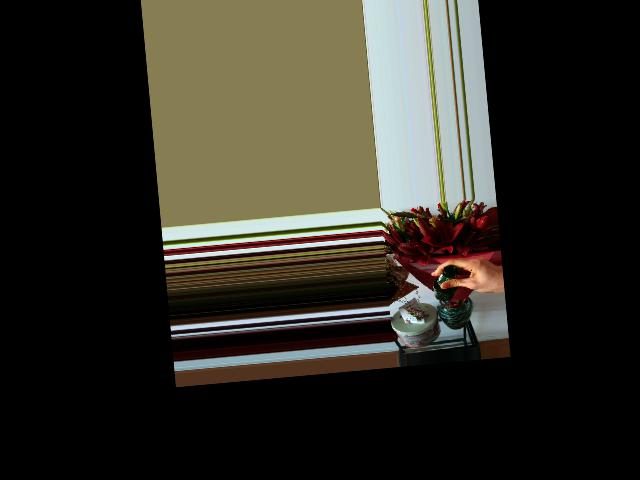beer: (432, 264, 461, 302)
